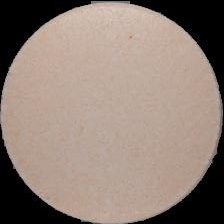0378-0424: (0, 0, 224, 224)
